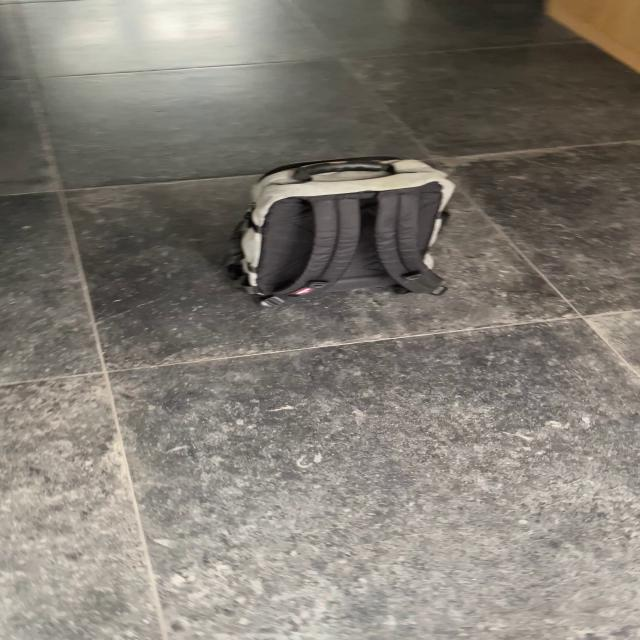backpack: (211, 150, 462, 298)
